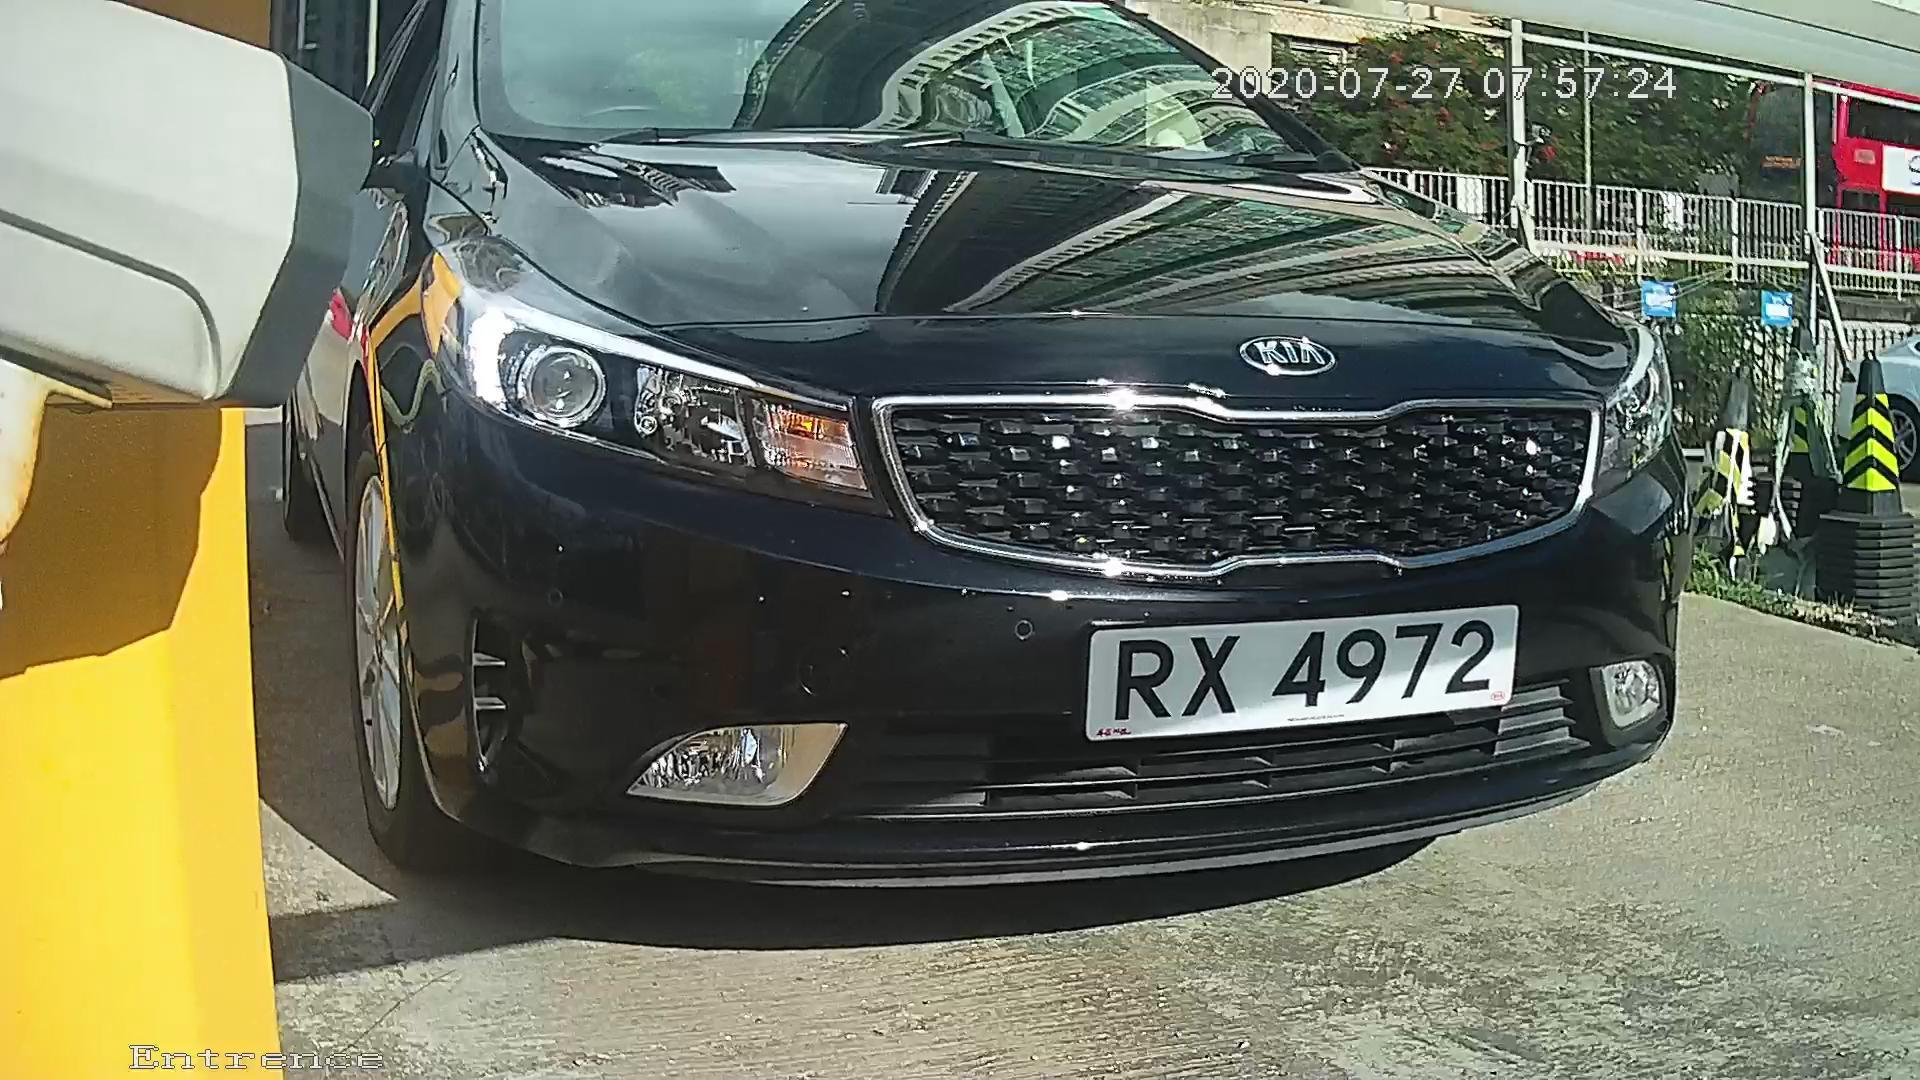Car: (138, 25, 1792, 974)
License Plate: (1063, 584, 1535, 753)
